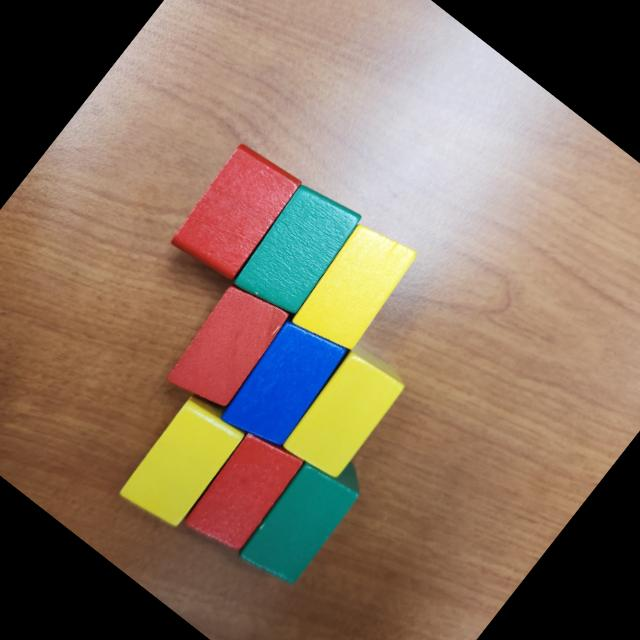blue: (210, 307, 356, 465)
green: (224, 172, 372, 328), (232, 439, 376, 597)
red: (162, 132, 310, 290), (156, 272, 296, 422), (176, 422, 308, 564)
yellow: (285, 212, 426, 364), (276, 340, 416, 489), (114, 392, 250, 538)
